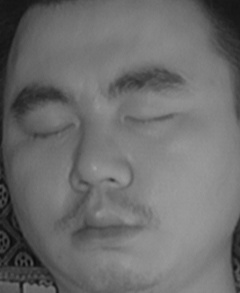blink: (123, 101, 174, 138), (24, 115, 77, 149)
mouth: (63, 198, 148, 257)
